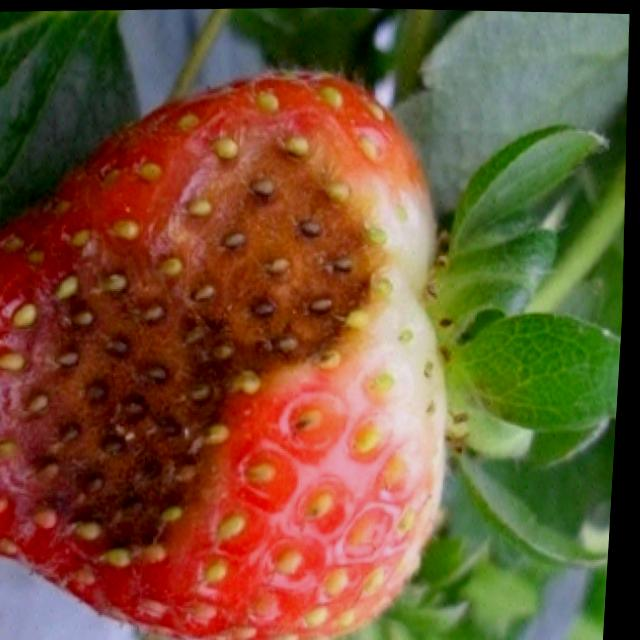Anthracnose Fruit Rot: (0, 99, 391, 591)
